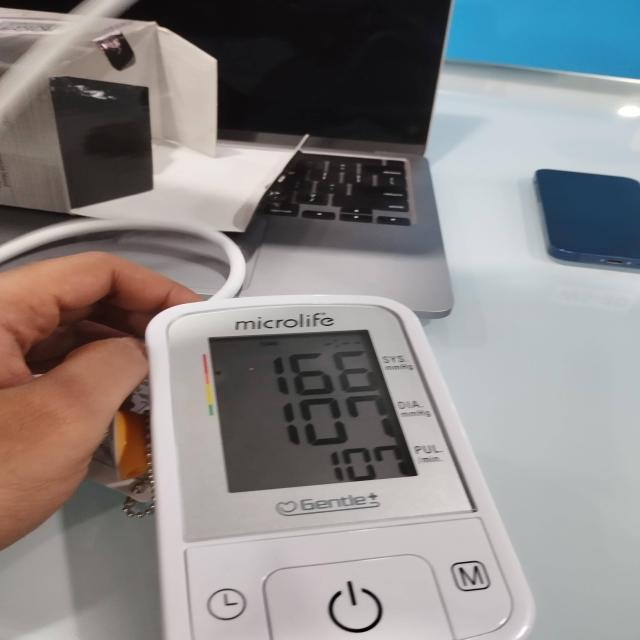bp: (143, 295, 536, 640)
